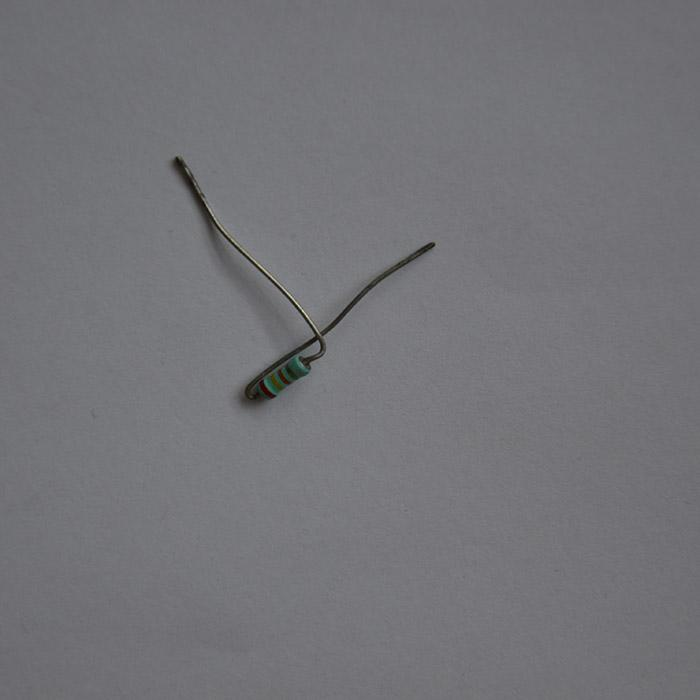resistor: (252, 354, 310, 401)
